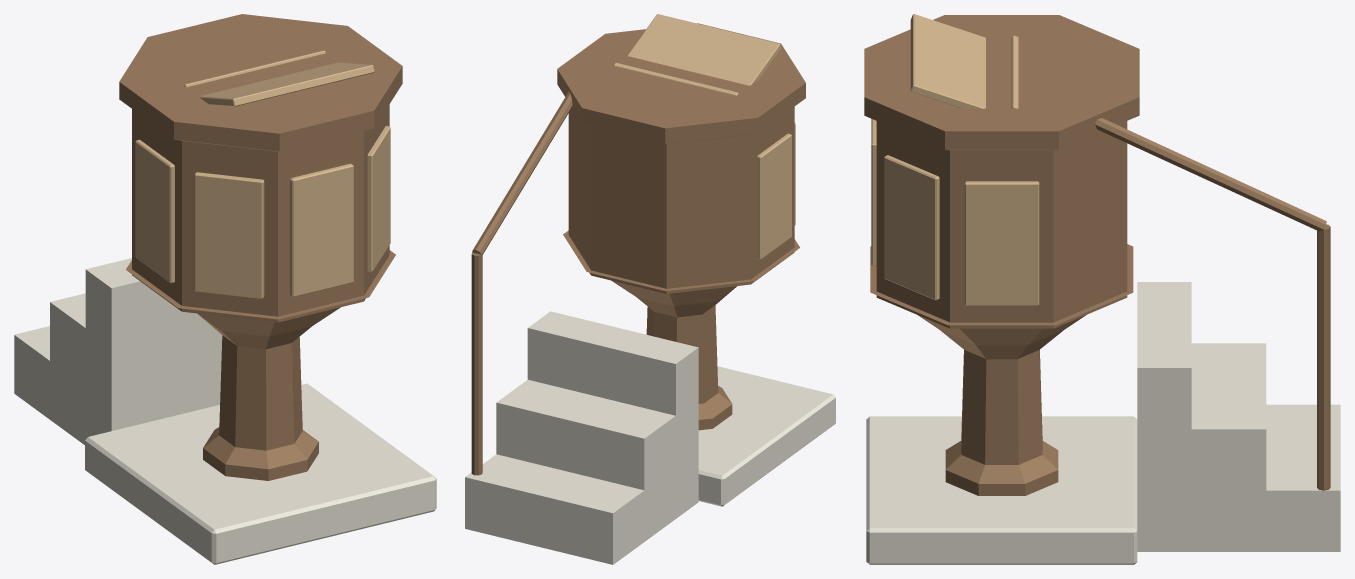
Rendered from wedding-and-chapel-kit-chapel-pulpit-d97d6c8b__39386.glb.
The picture shows the model from 3 angles, left to right: view 1: azimuth 30°, elevation 25°; view 2: azimuth 150°, elevation 25°; view 3: azimuth 270°, elevation 25°; orthographic projection. The views are drawn at different scales.
Visible parts, largest first — view 1: chapel-pulpit; view 2: chapel-pulpit; view 3: chapel-pulpit.
Boxes of the visible parts, x1,y1,x2,y2 form: chapel-pulpit: [14, 14, 436, 564]; chapel-pulpit: [465, 14, 835, 564]; chapel-pulpit: [864, 14, 1340, 564].
Size of the model in its own units: 0.813 by 1.5 by 1.41.
